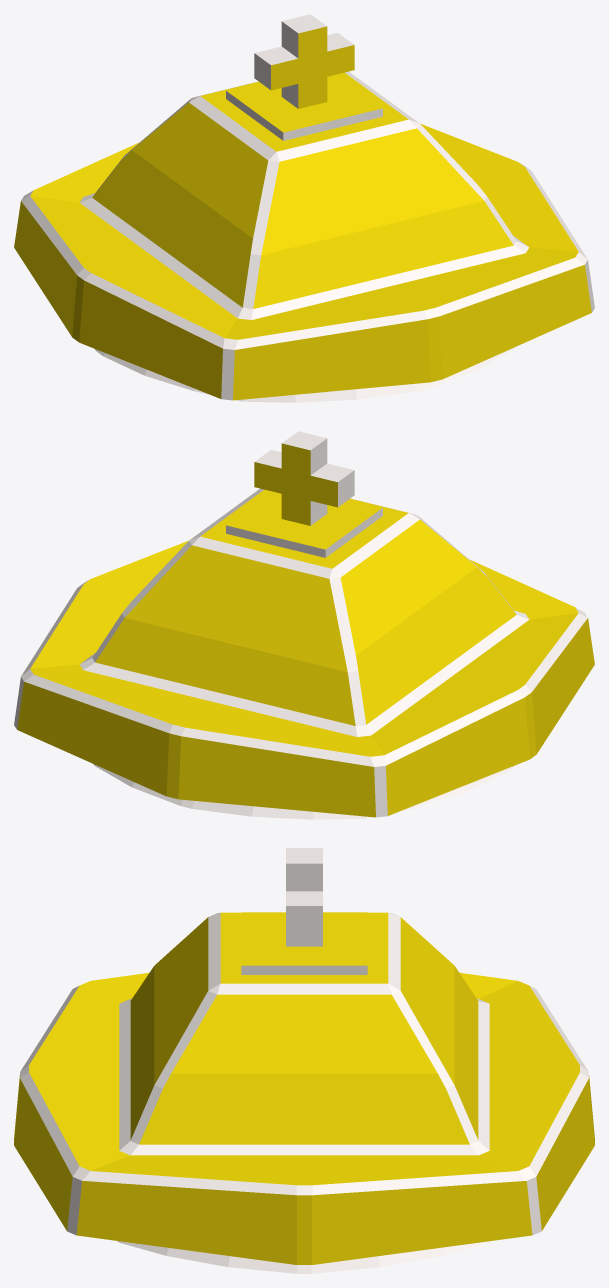
Rendered from UFO.gltf.
The picture shows the model from 3 angles, top to bottom: view 1: azimuth 30°, elevation 25°; view 2: azimuth 150°, elevation 25°; view 3: azimuth 270°, elevation 25°; orthographic projection. The views are drawn at different scales.
Visible parts, largest first — view 1: UFO; view 2: UFO; view 3: UFO.
Boxes of the visible parts, x1,y1,x2,y2 form: UFO: (14, 14, 594, 402); UFO: (14, 431, 594, 819); UFO: (14, 848, 594, 1273).
Size of the model in its own units: 4.91 by 3.24 by 4.91.
Materials: 1 (1 with a texture image).
